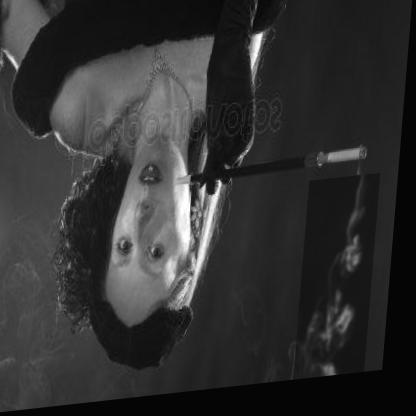smoke: (300, 182, 384, 387)
